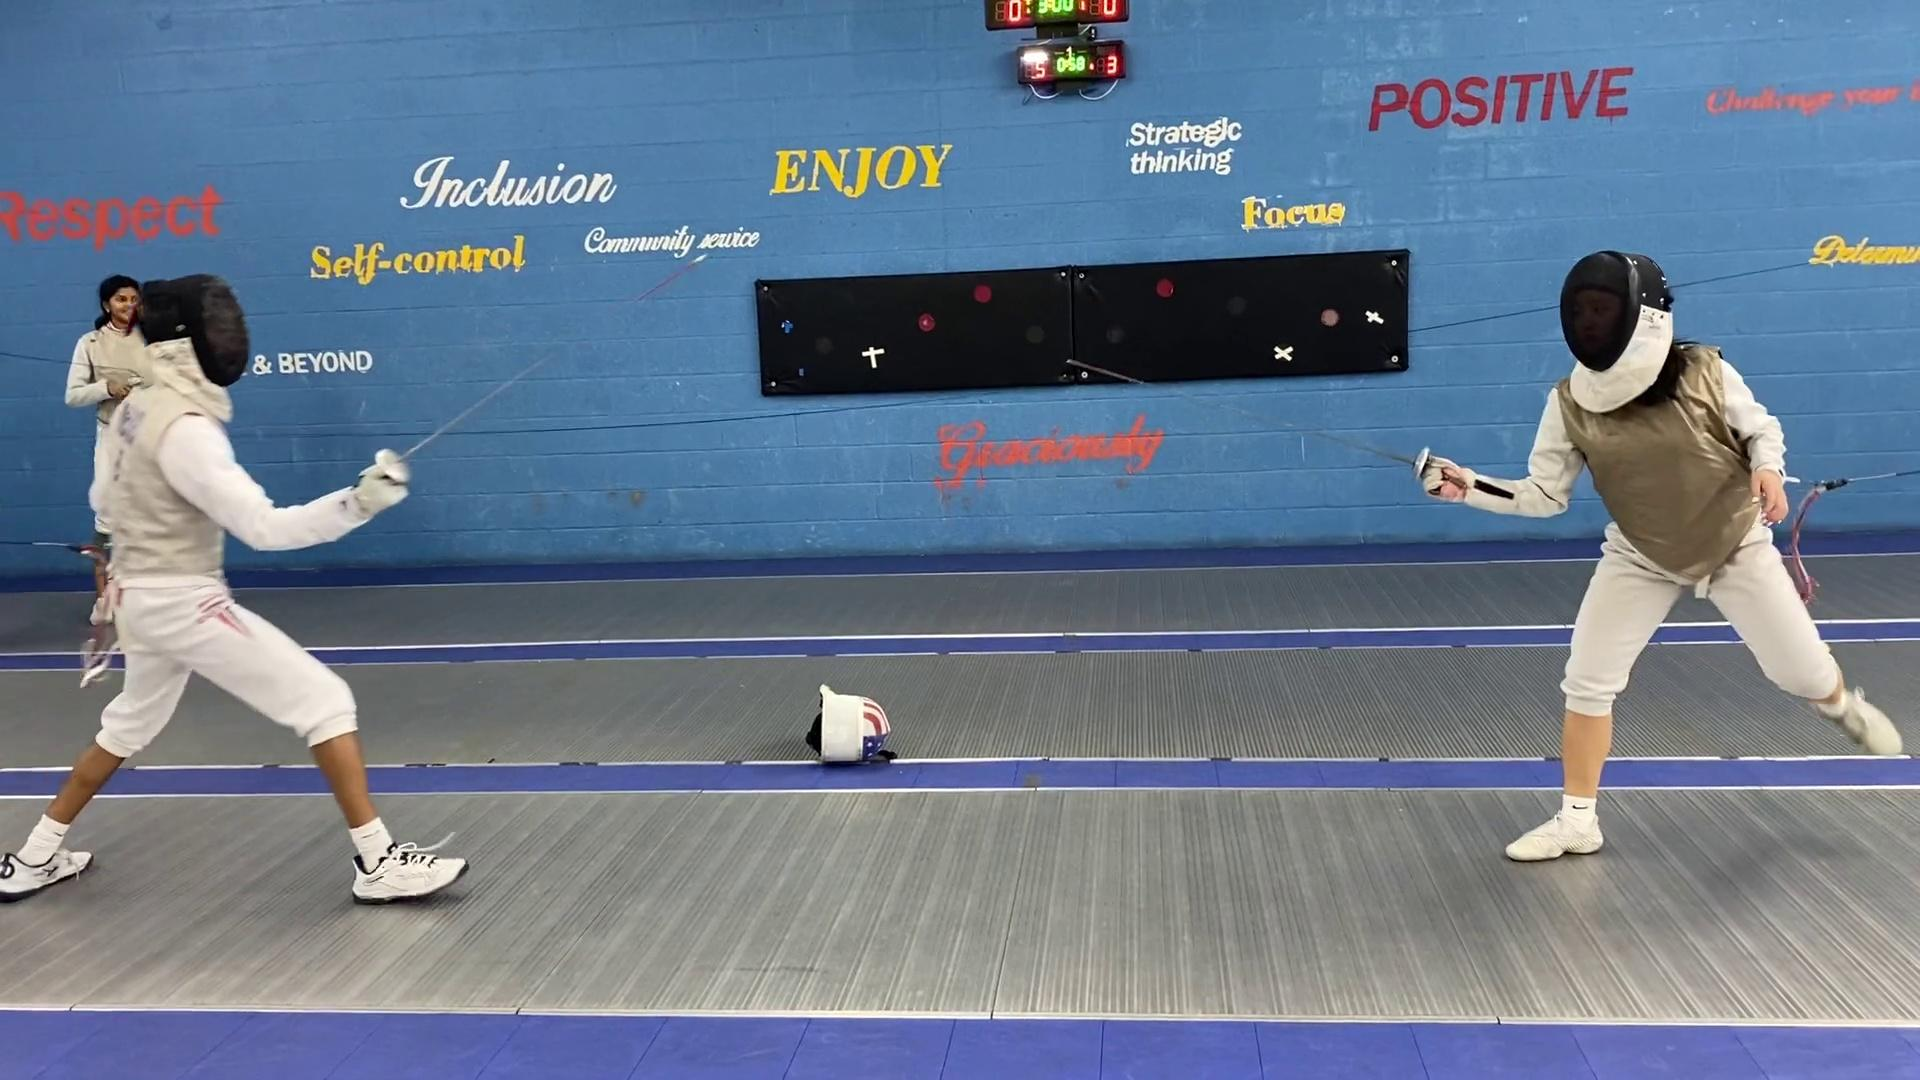blade-guard: (371, 442, 419, 491), (1406, 444, 1433, 487)
blade-tip: (632, 251, 711, 307), (1065, 355, 1156, 394)
fencing-blade: (359, 247, 713, 498), (1062, 349, 1476, 510)
